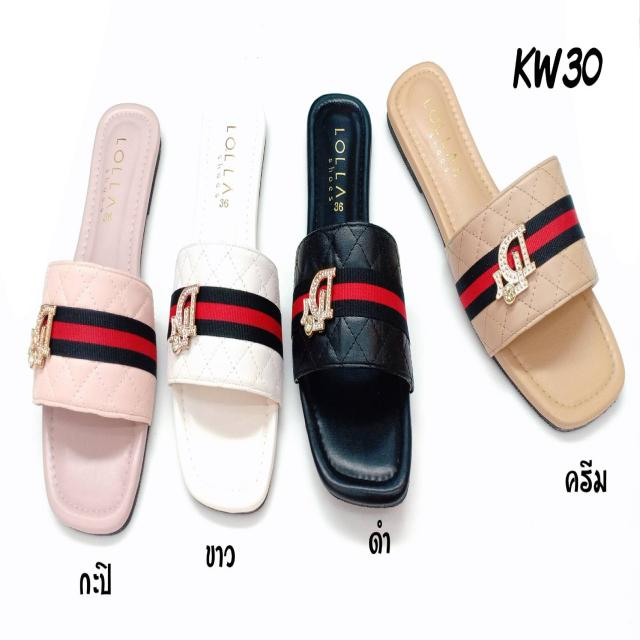black: (299, 96, 409, 506)
cream: (387, 63, 623, 432)
kapi: (47, 100, 157, 532)
white: (168, 98, 280, 508)
